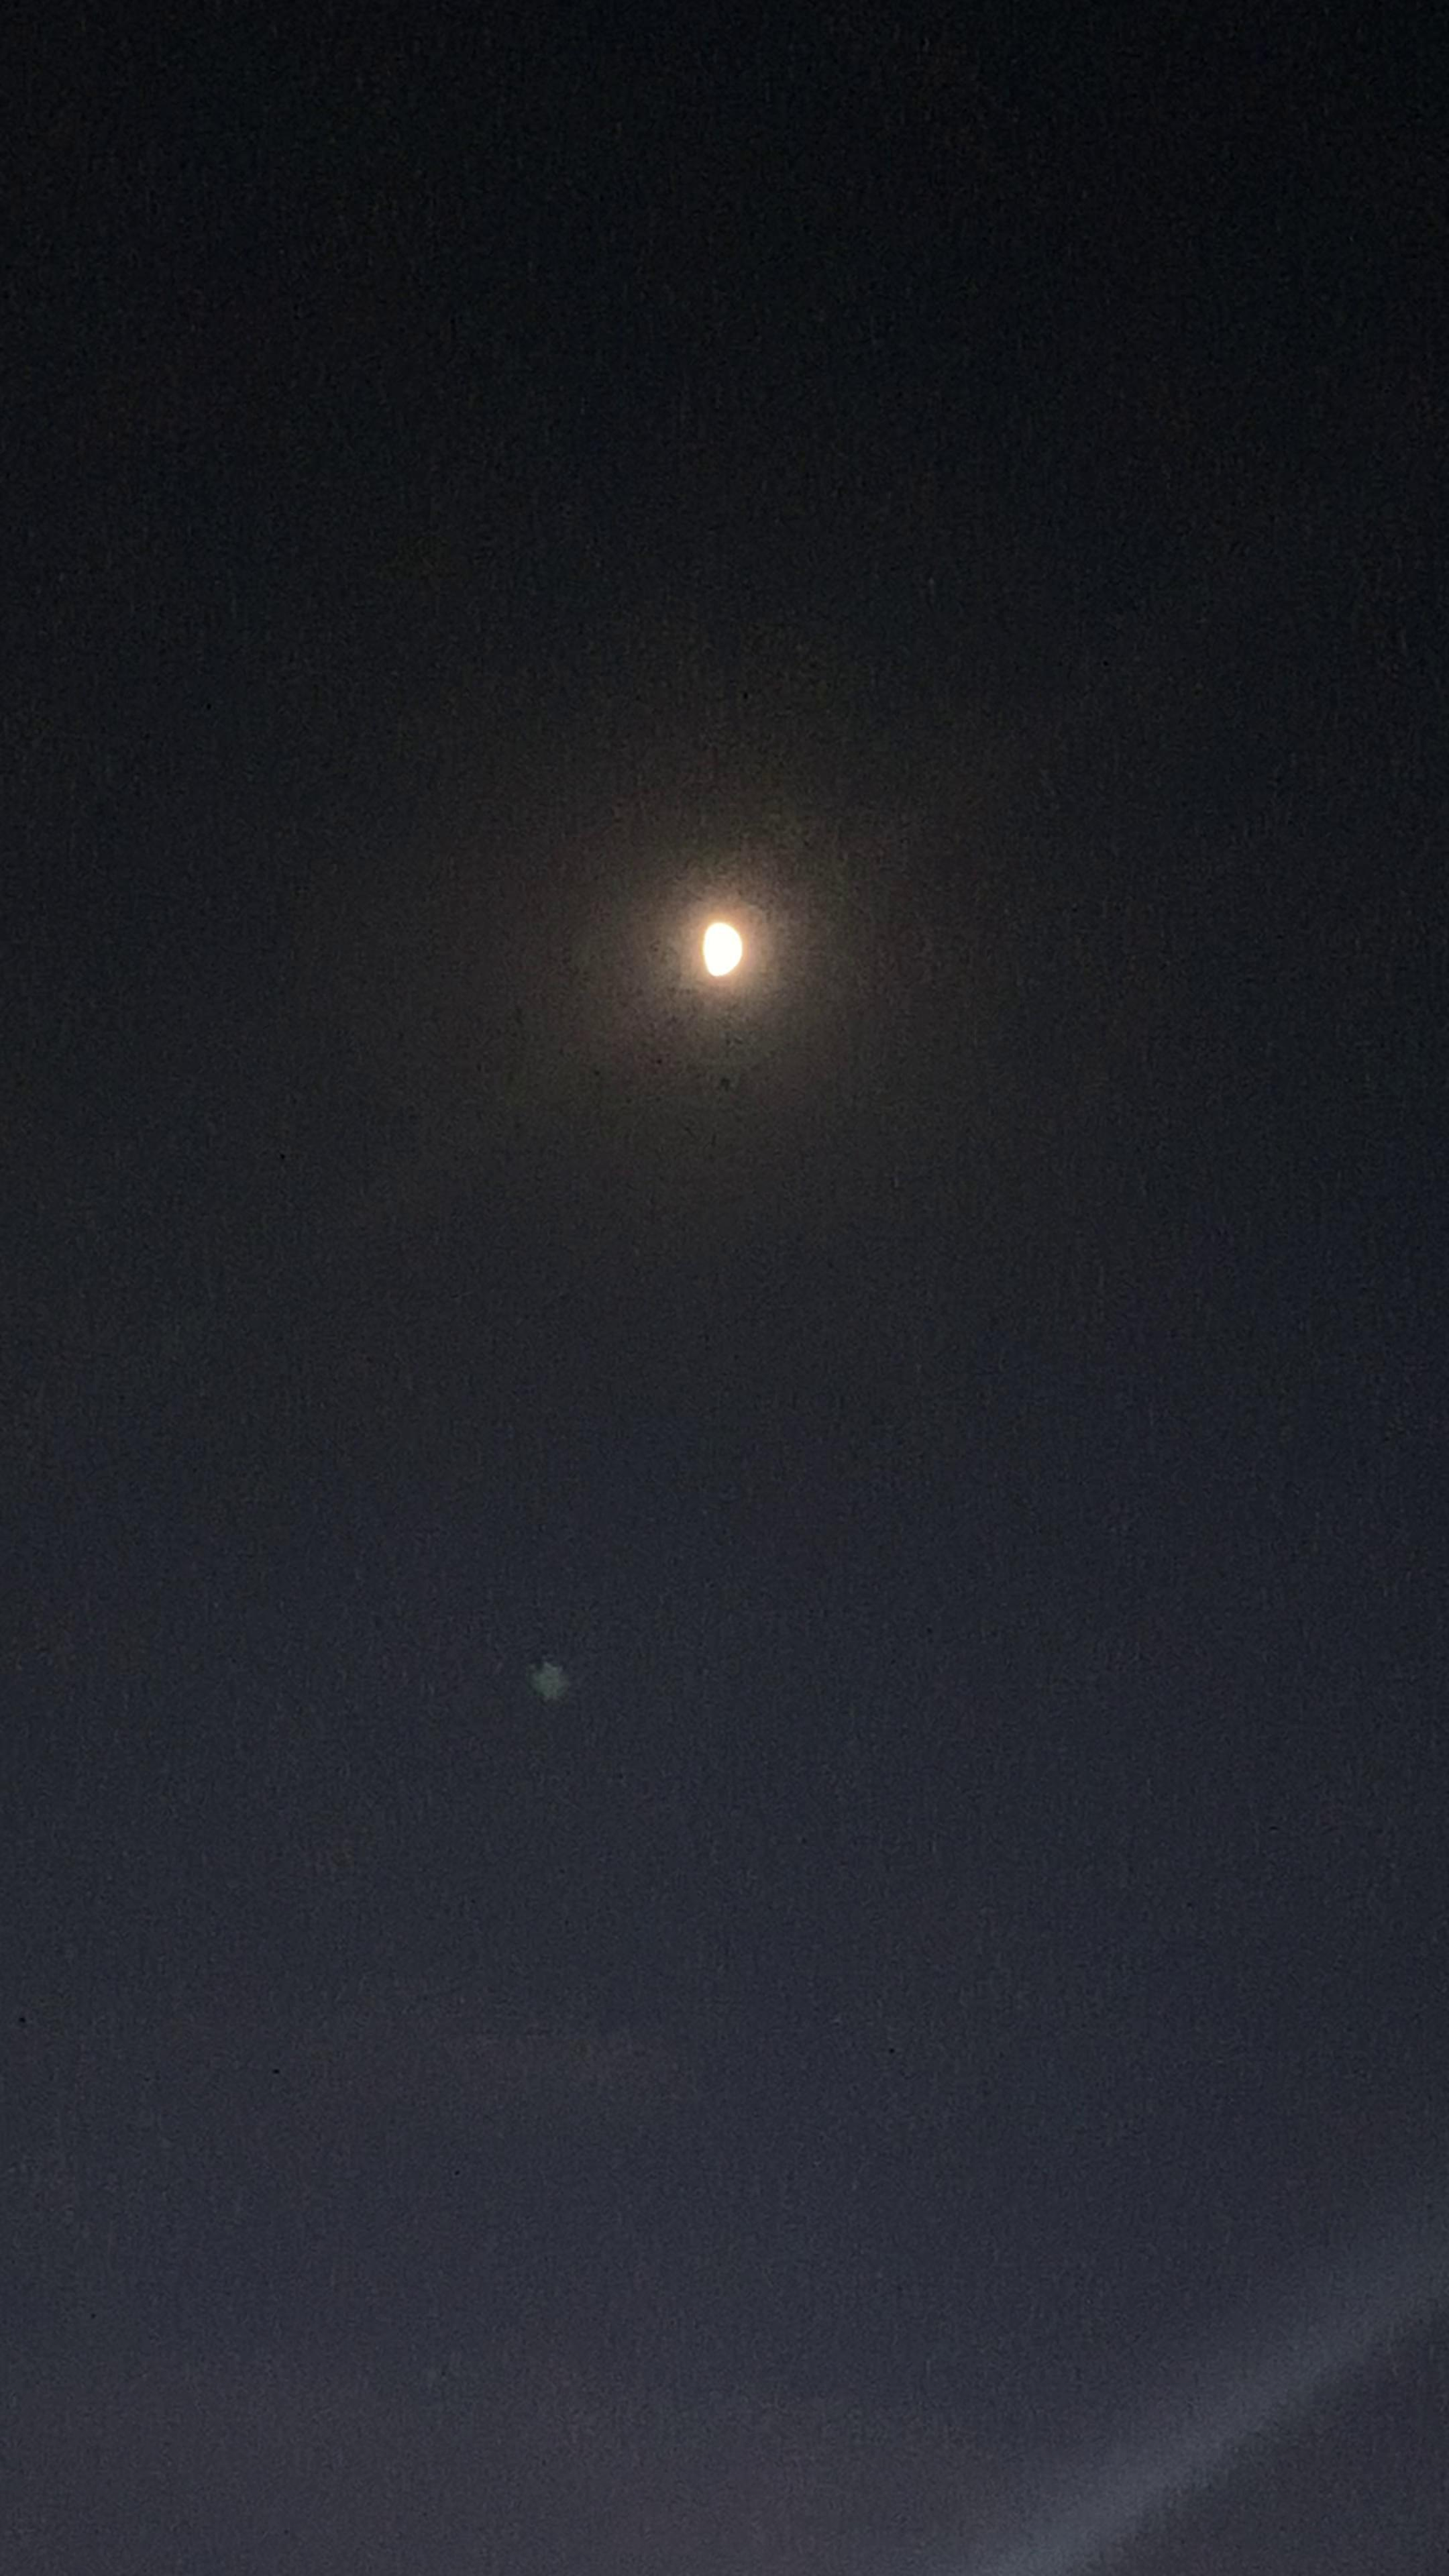moon: (685, 885, 786, 1001)
